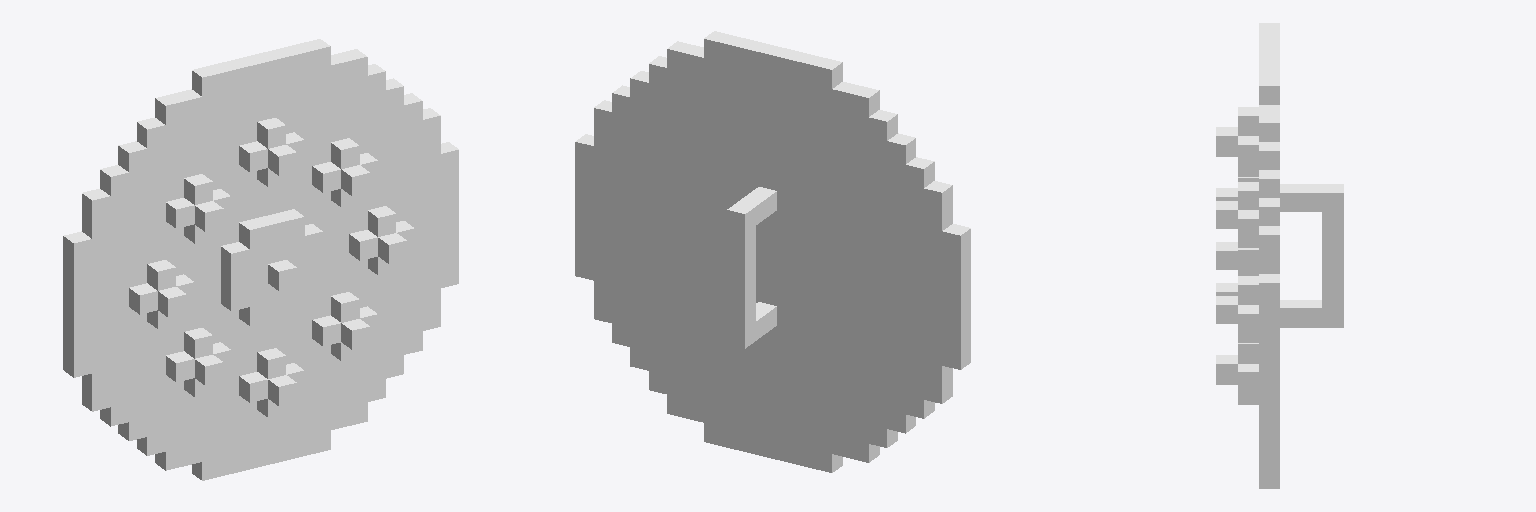
The model's file is weaponsshields-13.obj.
3 views of the same model, side by side, from view 1: azimuth 30°, elevation 25°; view 2: azimuth 150°, elevation 25°; view 3: azimuth 270°, elevation 25° (orthographic).
Visible parts, largest first — view 1: weaponsshields-13; view 2: weaponsshields-13; view 3: weaponsshields-13.
Boxes of the visible parts, x1,y1,x2,y2 form: weaponsshields-13: [63, 39, 458, 480]; weaponsshields-13: [575, 31, 970, 472]; weaponsshields-13: [1216, 23, 1343, 488].
Bounding box in the file's own units: 21 × 21 × 6.